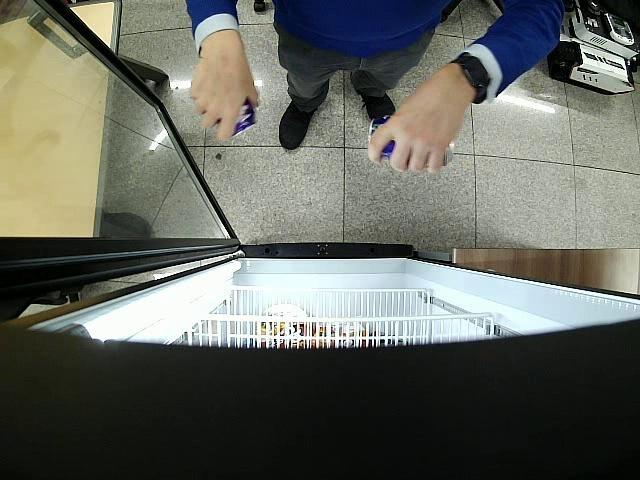14_welchsGrape: (368, 116, 455, 164), (230, 96, 258, 137)
